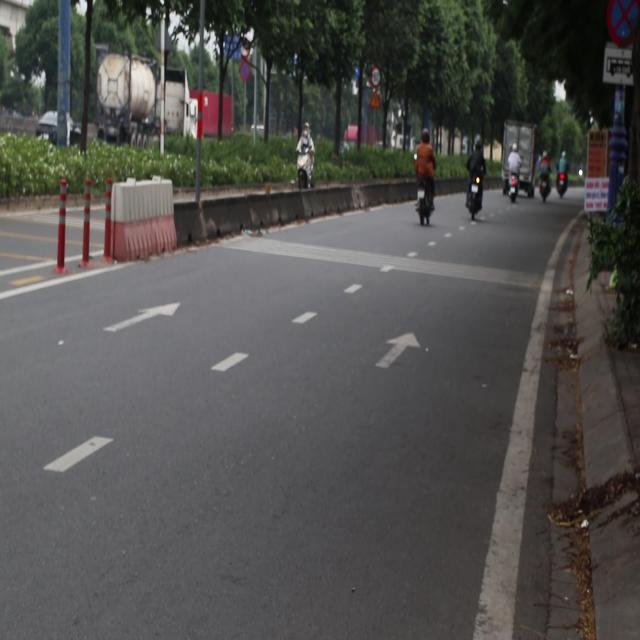car: (35, 112, 81, 146)
motorbike: (278, 144, 320, 188), (415, 186, 440, 236), (468, 175, 486, 219), (554, 170, 570, 203), (508, 174, 524, 202), (539, 180, 552, 203)
truck: (92, 37, 198, 158), (192, 91, 248, 147), (499, 102, 529, 194)
